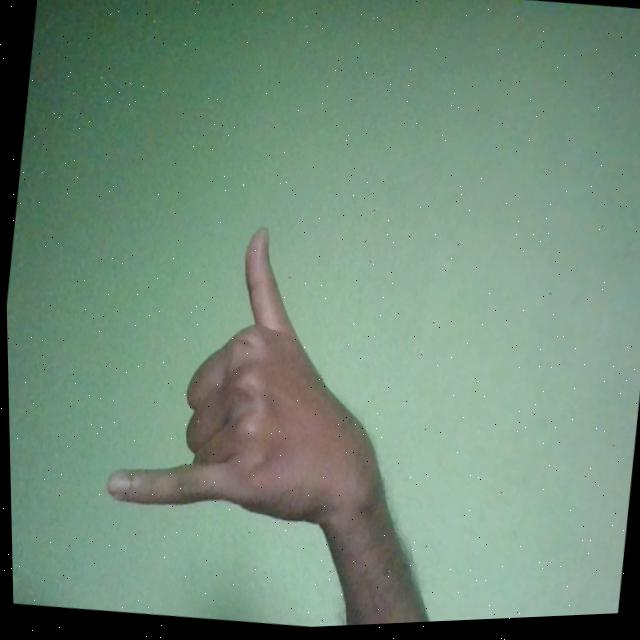Call Me: (97, 208, 415, 546)
